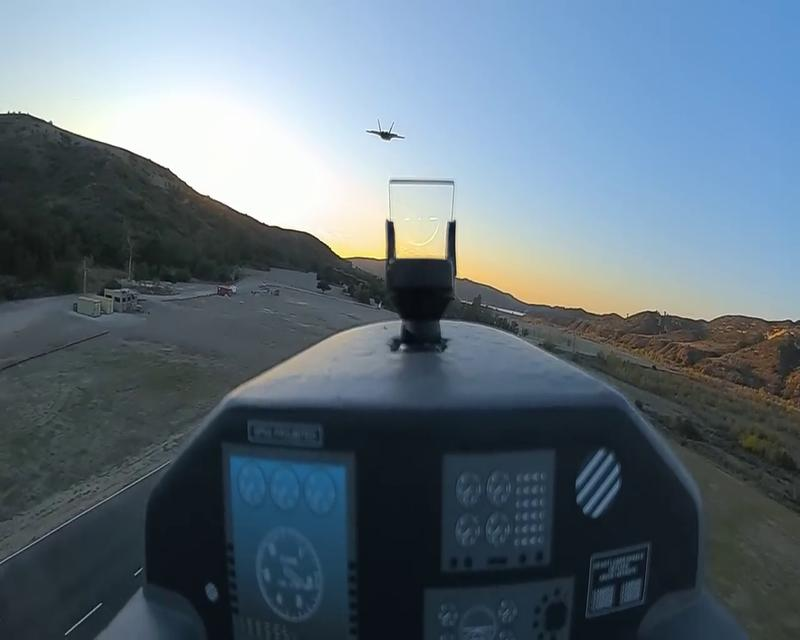UAV: (366, 116, 406, 144)
